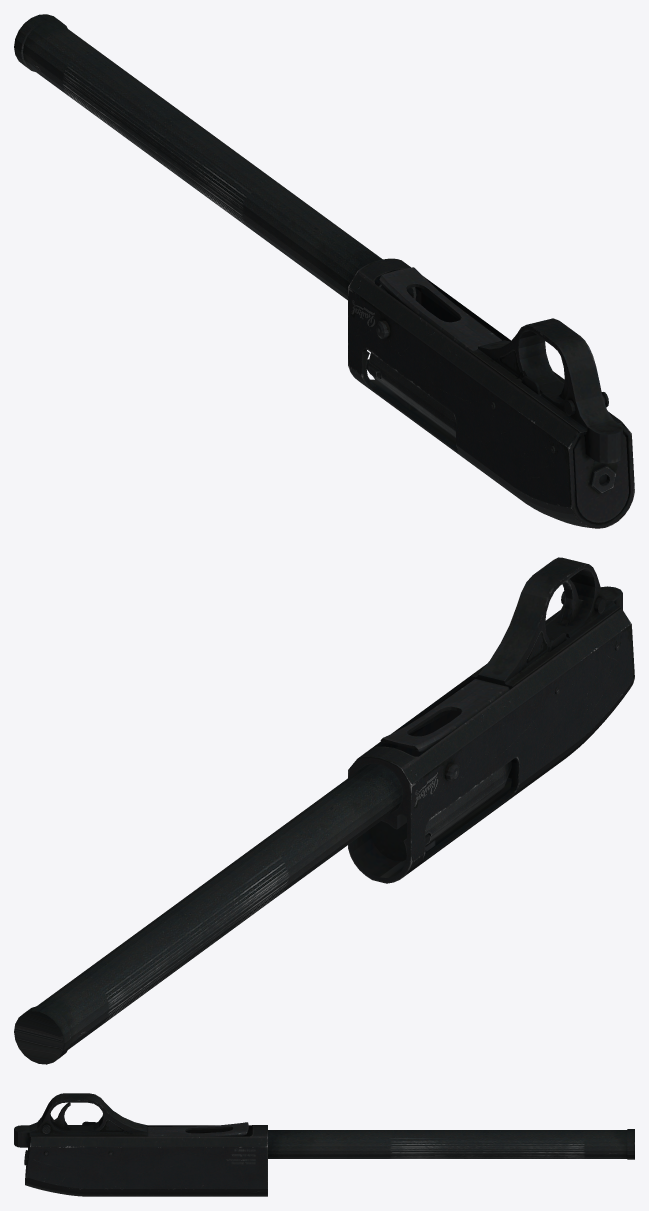
The picture shows the model from 3 angles, top to bottom: view 1: azimuth 30°, elevation 25°; view 2: azimuth 150°, elevation 25°; view 3: azimuth 270°, elevation 25°; orthographic projection. The views are drawn at different scales.
Parts seen in each view (by area): view 1: TW_54491c4f4bdc2db1078b4568_PZ_Import; view 2: TW_54491c4f4bdc2db1078b4568_PZ_Import; view 3: TW_54491c4f4bdc2db1078b4568_PZ_Import.
Boxes of the visible parts, box(x1,y1,x2,y2) form: TW_54491c4f4bdc2db1078b4568_PZ_Import: box(14, 14, 634, 528); TW_54491c4f4bdc2db1078b4568_PZ_Import: box(14, 557, 634, 1064); TW_54491c4f4bdc2db1078b4568_PZ_Import: box(14, 1093, 634, 1196).
Size of the model in its own units: 0.0218 by 0.3019 by 0.0525.
1 material, 1 textured.
